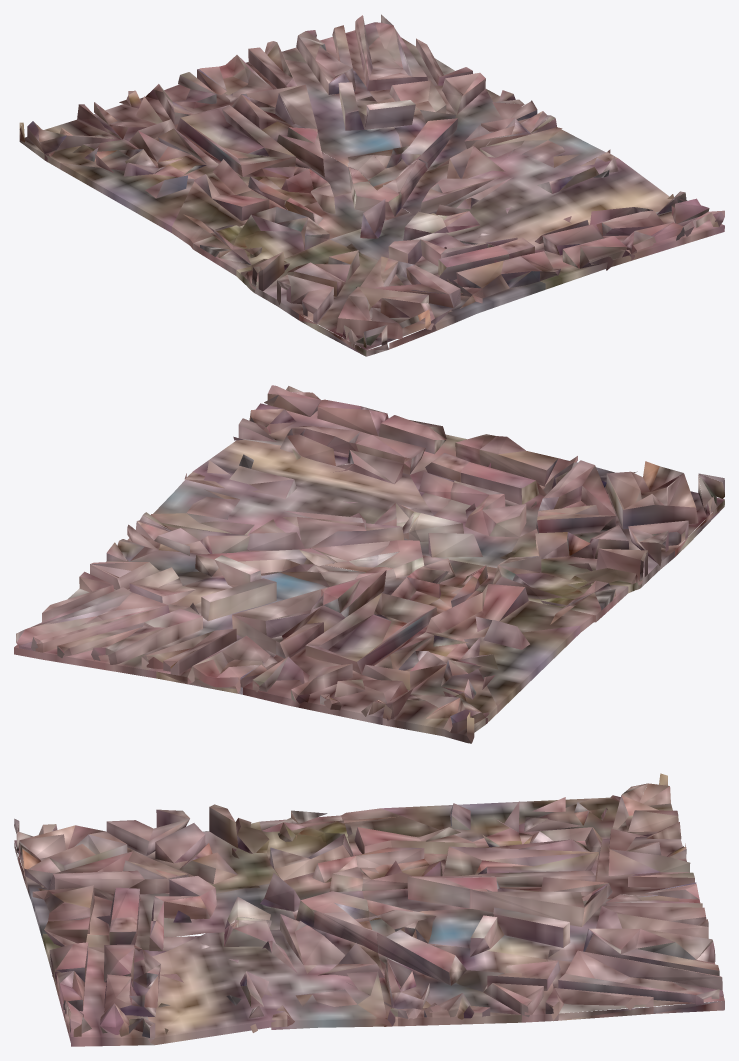
3 renders of one model, top to bottom at view 1: azimuth 30°, elevation 25°; view 2: azimuth 150°, elevation 25°; view 3: azimuth 270°, elevation 25°, orthographic. The views are drawn at different scales.
Visible parts, largest first — view 1: Mesh_0; view 2: Mesh_0; view 3: Mesh_0.
Part boxes in pixels (bbox=[...]): Mesh_0: bbox=[19, 14, 724, 356]; Mesh_0: bbox=[14, 385, 724, 743]; Mesh_0: bbox=[14, 773, 724, 1046].
Bounding box in the file's own units: 540 × 52.32 × 659.
2 materials, 2 textured.
